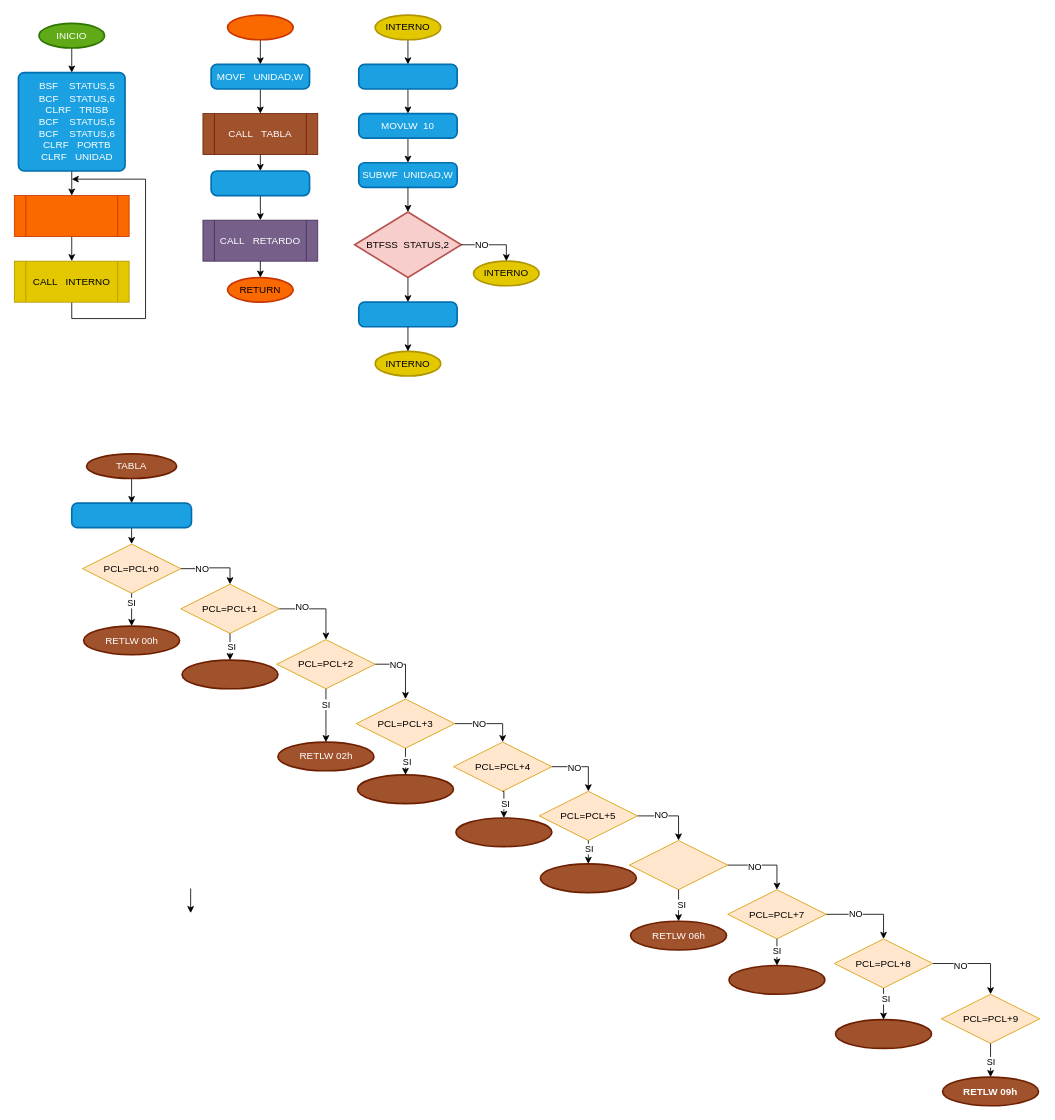
Some shapes in this 1055 by 1120 pixel diagram are drawn without their labels. Here are the shapes that lost their labels. From the top down, the box of each, then its label:
(226, 14, 294, 40): VISUALIZAR
(358, 63, 458, 89): INCF UNIDAD,F
(210, 170, 310, 196): MOVWF PORTB
(14, 195, 129, 237): CALL VISUALIZAR
(358, 301, 458, 327): CLRF UNIDAD
(71, 502, 192, 528): ADDWF PCL,F
(181, 659, 278, 689): RETLW 01h
(356, 774, 454, 804): RETLW 03h
(455, 817, 552, 847): RETLW 04h
(539, 863, 637, 893): RETLW 05h
(629, 840, 728, 890): PCL=PCL+6
(728, 964, 825, 995): RETLW 07h
(834, 1018, 932, 1049): RETLW 08h
